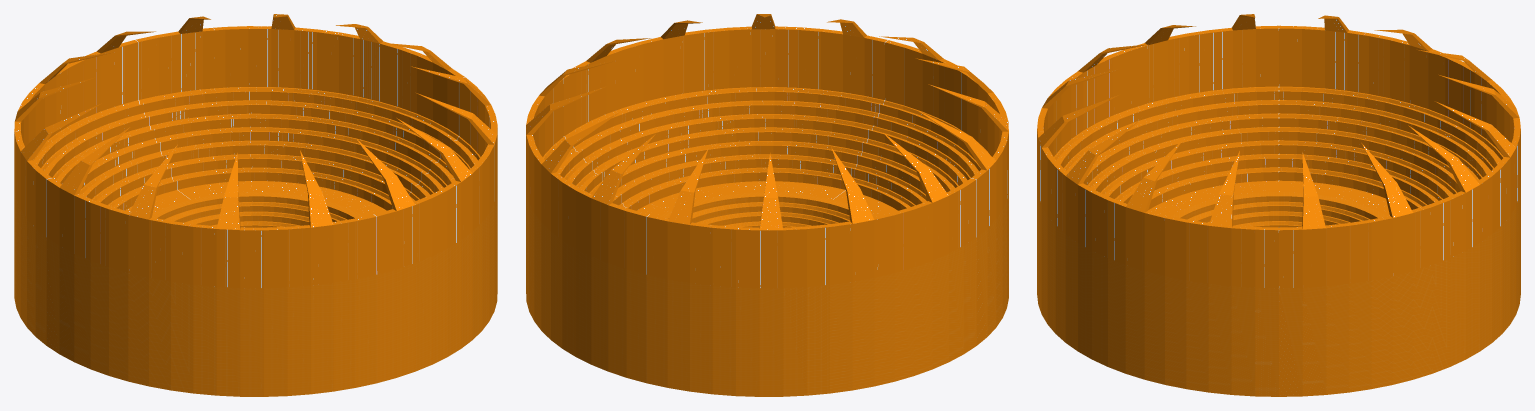
The model's file is lucifersColosseum.glb.
3 views of the same model, side by side, from view 1: azimuth 30°, elevation 25°; view 2: azimuth 150°, elevation 25°; view 3: azimuth 270°, elevation 25° (orthographic).
Parts seen in each view (by area): view 1: Colosseum; view 2: Colosseum; view 3: Colosseum.
Part boxes in pixels (box(x1,y1,x2,y2)): Colosseum: box(14, 14, 497, 396); Colosseum: box(526, 14, 1008, 396); Colosseum: box(1037, 14, 1520, 396).
Size of what is drawn, in the model's own units: 190 by 90.98 by 190.
1 material, 1 textured.
